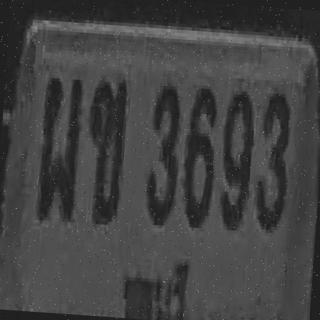A02: (82, 76, 128, 224)
A28: (35, 74, 83, 222)
N03: (143, 82, 183, 226), (253, 88, 292, 232)
N06: (180, 84, 219, 228)
N09: (217, 87, 256, 231)
P13: (114, 247, 192, 320)
